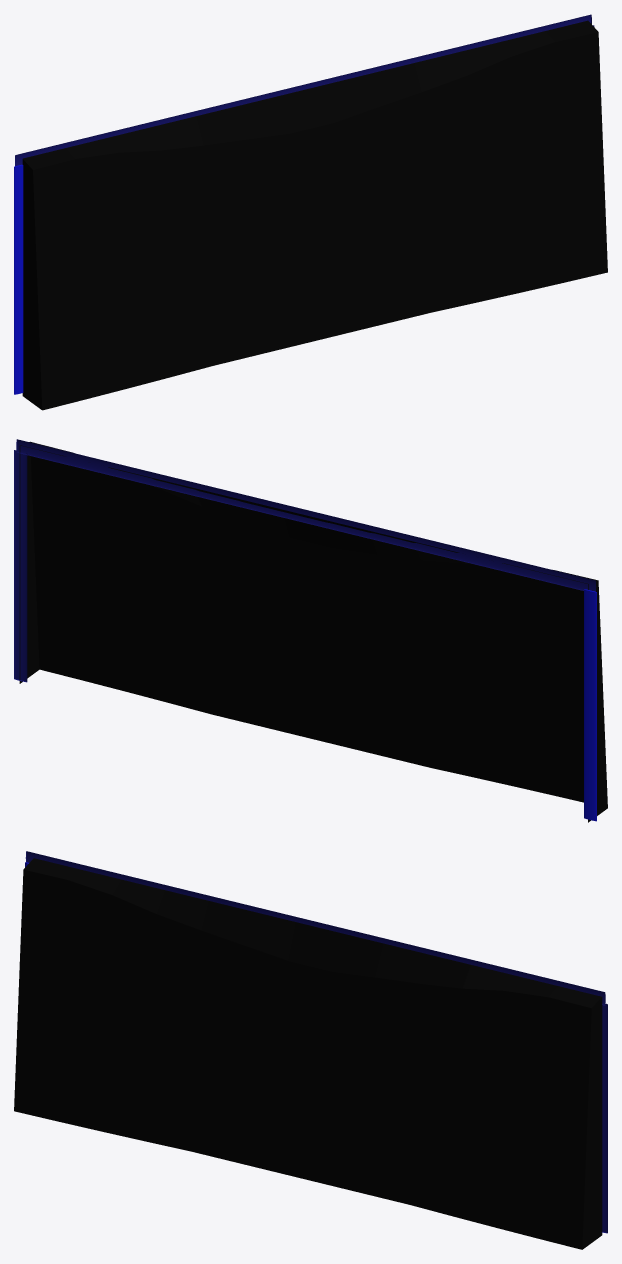
The model's file is arco azul.fbx.
The picture shows the model from 3 angles, top to bottom: view 1: azimuth 30°, elevation 25°; view 2: azimuth 150°, elevation 25°; view 3: azimuth 330°, elevation 25°; orthographic projection.
Parts seen in each view (by area): view 1: Cube.001; view 2: Cube.001; view 3: Cube.001.
Part boxes in pixels (x1,y1,x2,y2): Cube.001: [14, 14, 607, 410]; Cube.001: [14, 439, 607, 822]; Cube.001: [14, 851, 607, 1249].
Bounding box in the file's own units: 500 × 200 × 30.
